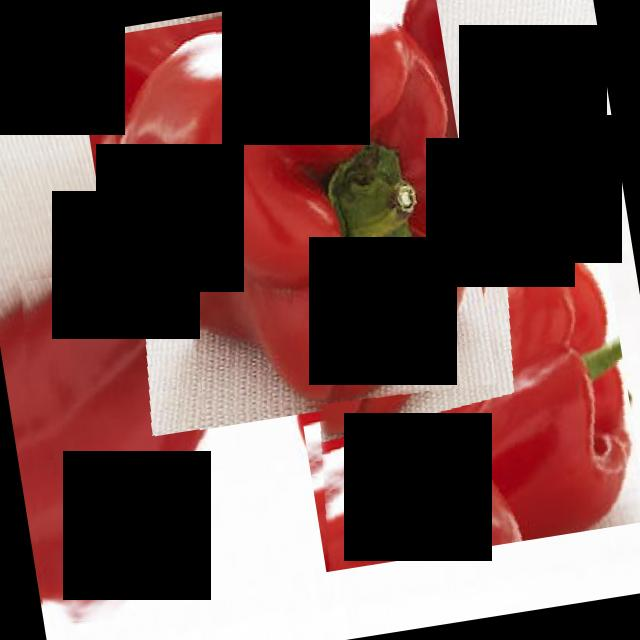pepper: (74, 0, 497, 440), (278, 215, 640, 572), (0, 257, 235, 630)
